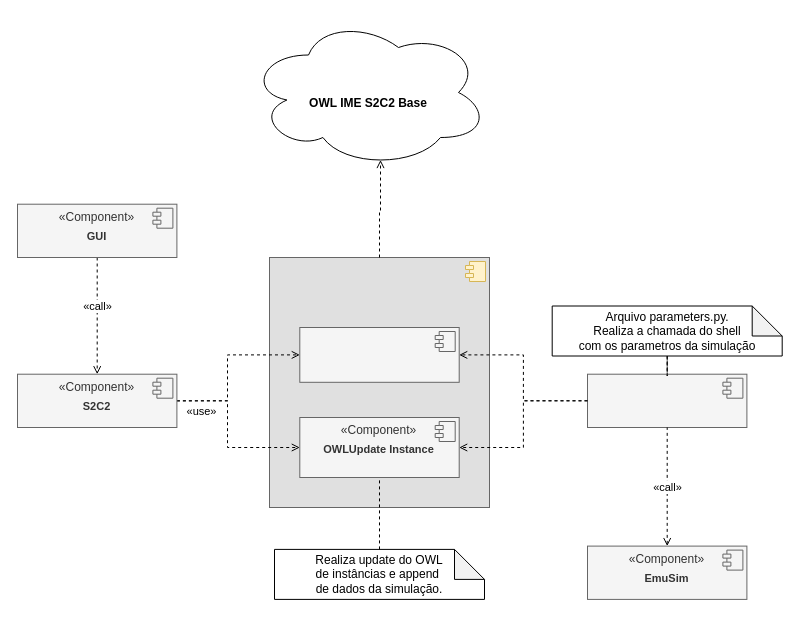
Image size: 800x617. Some labels were removed from this diagram. The shapes that lost their labels are listed below. From the top down, each one's box as (x1, y1, x2, y2) in pixels, then its label:
(299, 326, 459, 382): «Component» OWLCreate Instance
(268, 256, 490, 508): «Component» OWL Manager
(586, 373, 747, 428): «Component» Parameters Manager
